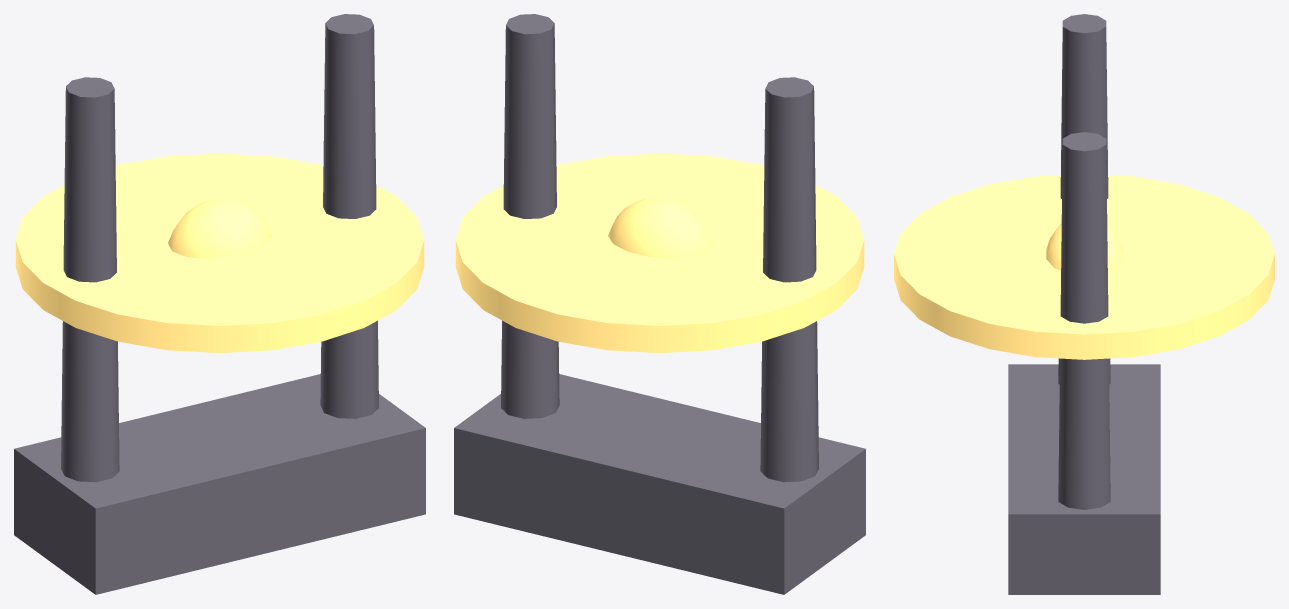
File: reincarnation_wheel.glb
3 renders of one model, left to right at view 1: azimuth 30°, elevation 25°; view 2: azimuth 150°, elevation 25°; view 3: azimuth 270°, elevation 25°, orthographic. The views are drawn at different scales.
Parts seen in each view (by area): view 1: UnderworldBasaltBase, SamsaraGoldWheel; view 2: UnderworldBasaltBase, SamsaraGoldWheel; view 3: SamsaraGoldWheel, UnderworldBasaltBase.
Part boxes in pixels (x1=…): UnderworldBasaltBase: x1=14, y1=14, x2=425, y2=594; SamsaraGoldWheel: x1=15, y1=153, x2=424, y2=352; UnderworldBasaltBase: x1=454, y1=14, x2=865, y2=594; SamsaraGoldWheel: x1=455, y1=153, x2=864, y2=352; SamsaraGoldWheel: x1=894, y1=175, x2=1274, y2=359; UnderworldBasaltBase: x1=1008, y1=14, x2=1160, y2=594.
Size of the model in its own units: 3 by 3.8 by 3.
